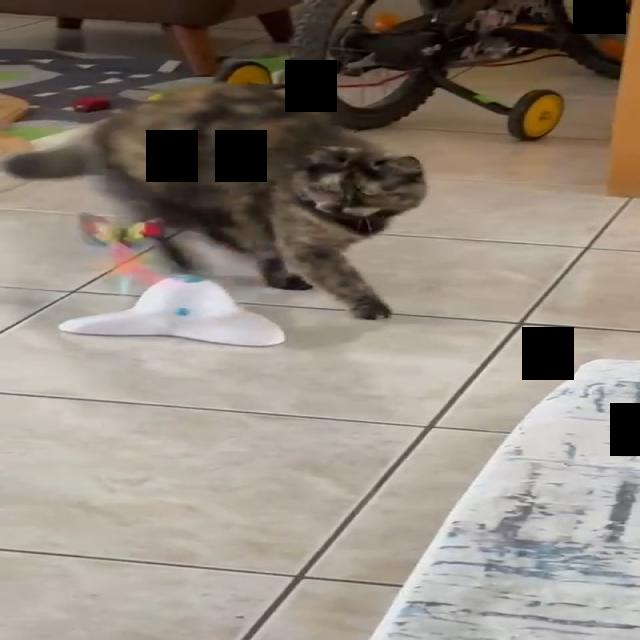authorized: (3, 83, 428, 321)
